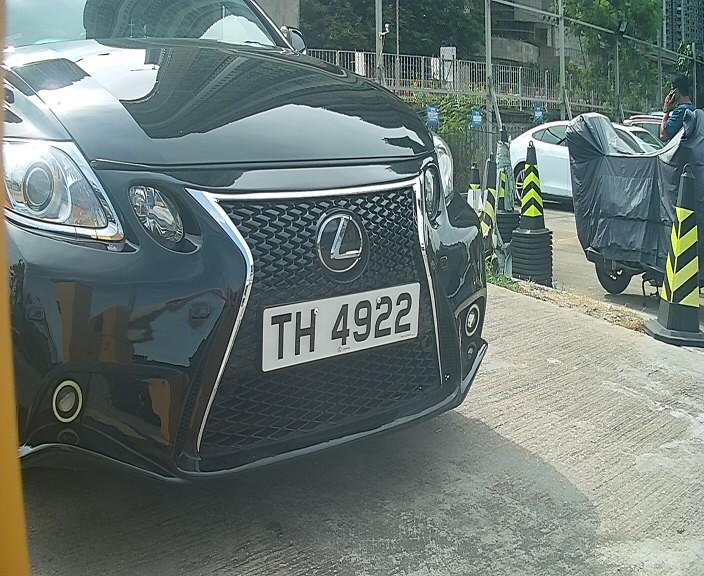License Plate: (261, 273, 418, 376)
